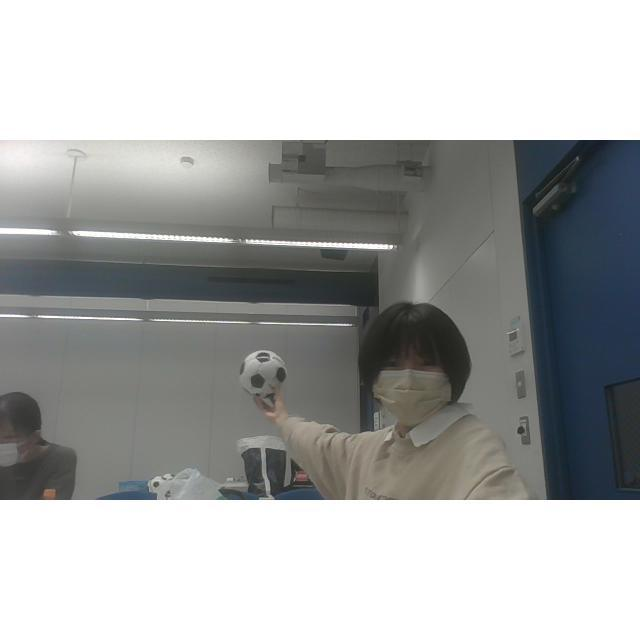ball: (238, 348, 286, 396)
